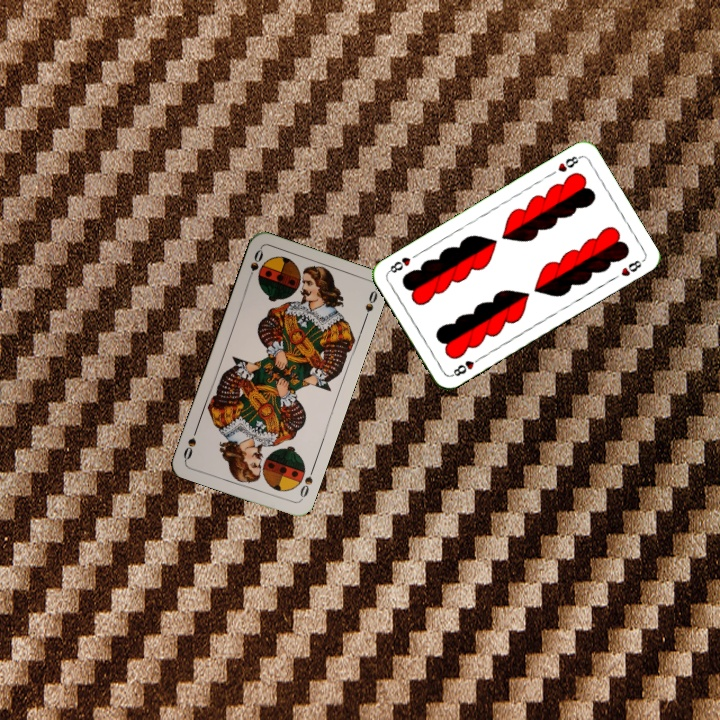H8: (447, 353, 484, 379), (554, 152, 583, 175)
SO: (243, 245, 266, 284), (295, 464, 317, 503)
